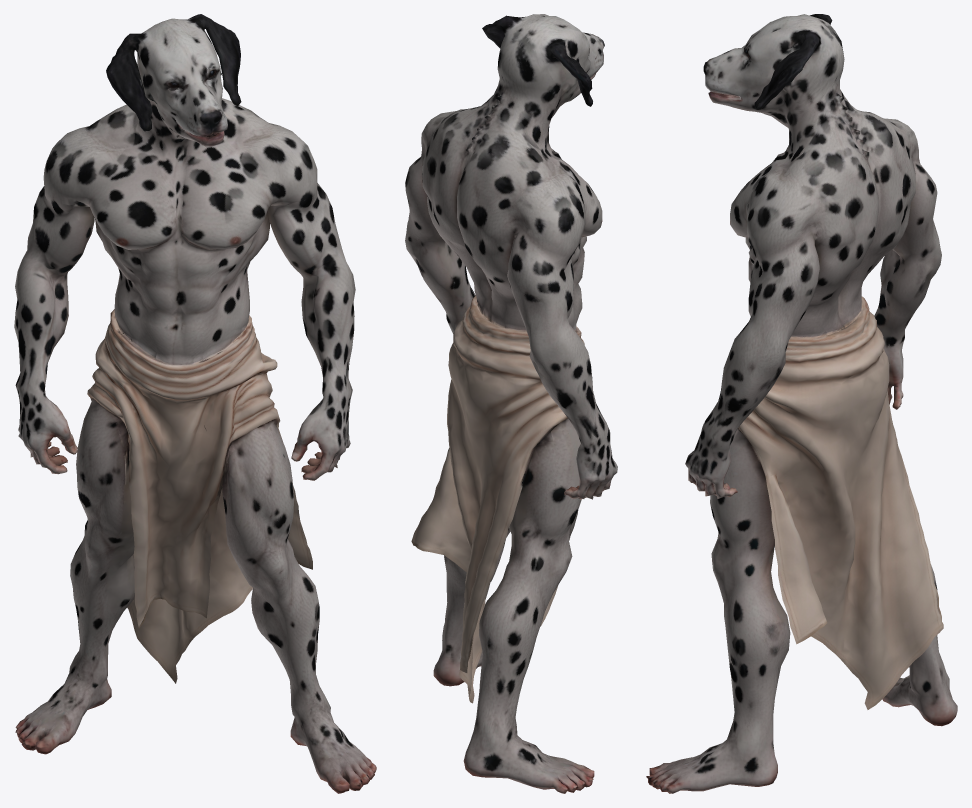
File: dogwarrior.glb
3 renders of one model, left to right at view 1: azimuth 30°, elevation 25°; view 2: azimuth 150°, elevation 25°; view 3: azimuth 270°, elevation 25°, orthographic. The views are drawn at different scales.
Parts seen in each view (by area): view 1: Model; view 2: Model; view 3: Model.
Part boxes in pixels (x1,y1,x2,y2): Model: (14, 14, 376, 793); Model: (405, 14, 617, 793); Model: (646, 14, 957, 793).
Bounding box in the file's own units: 0.3777 × 1 × 0.3933.
1 material, 1 textured.
